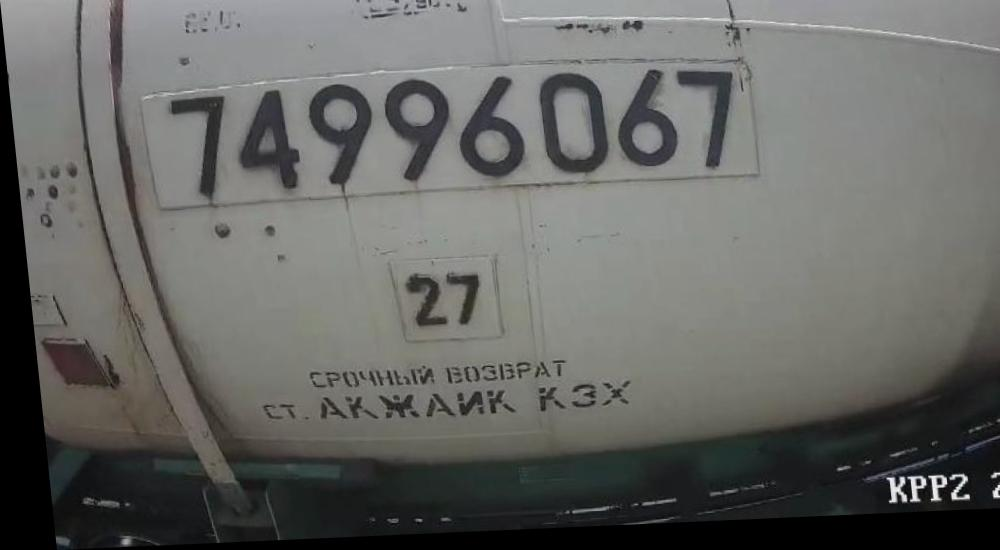Wagon-number: (160, 66, 747, 206)
